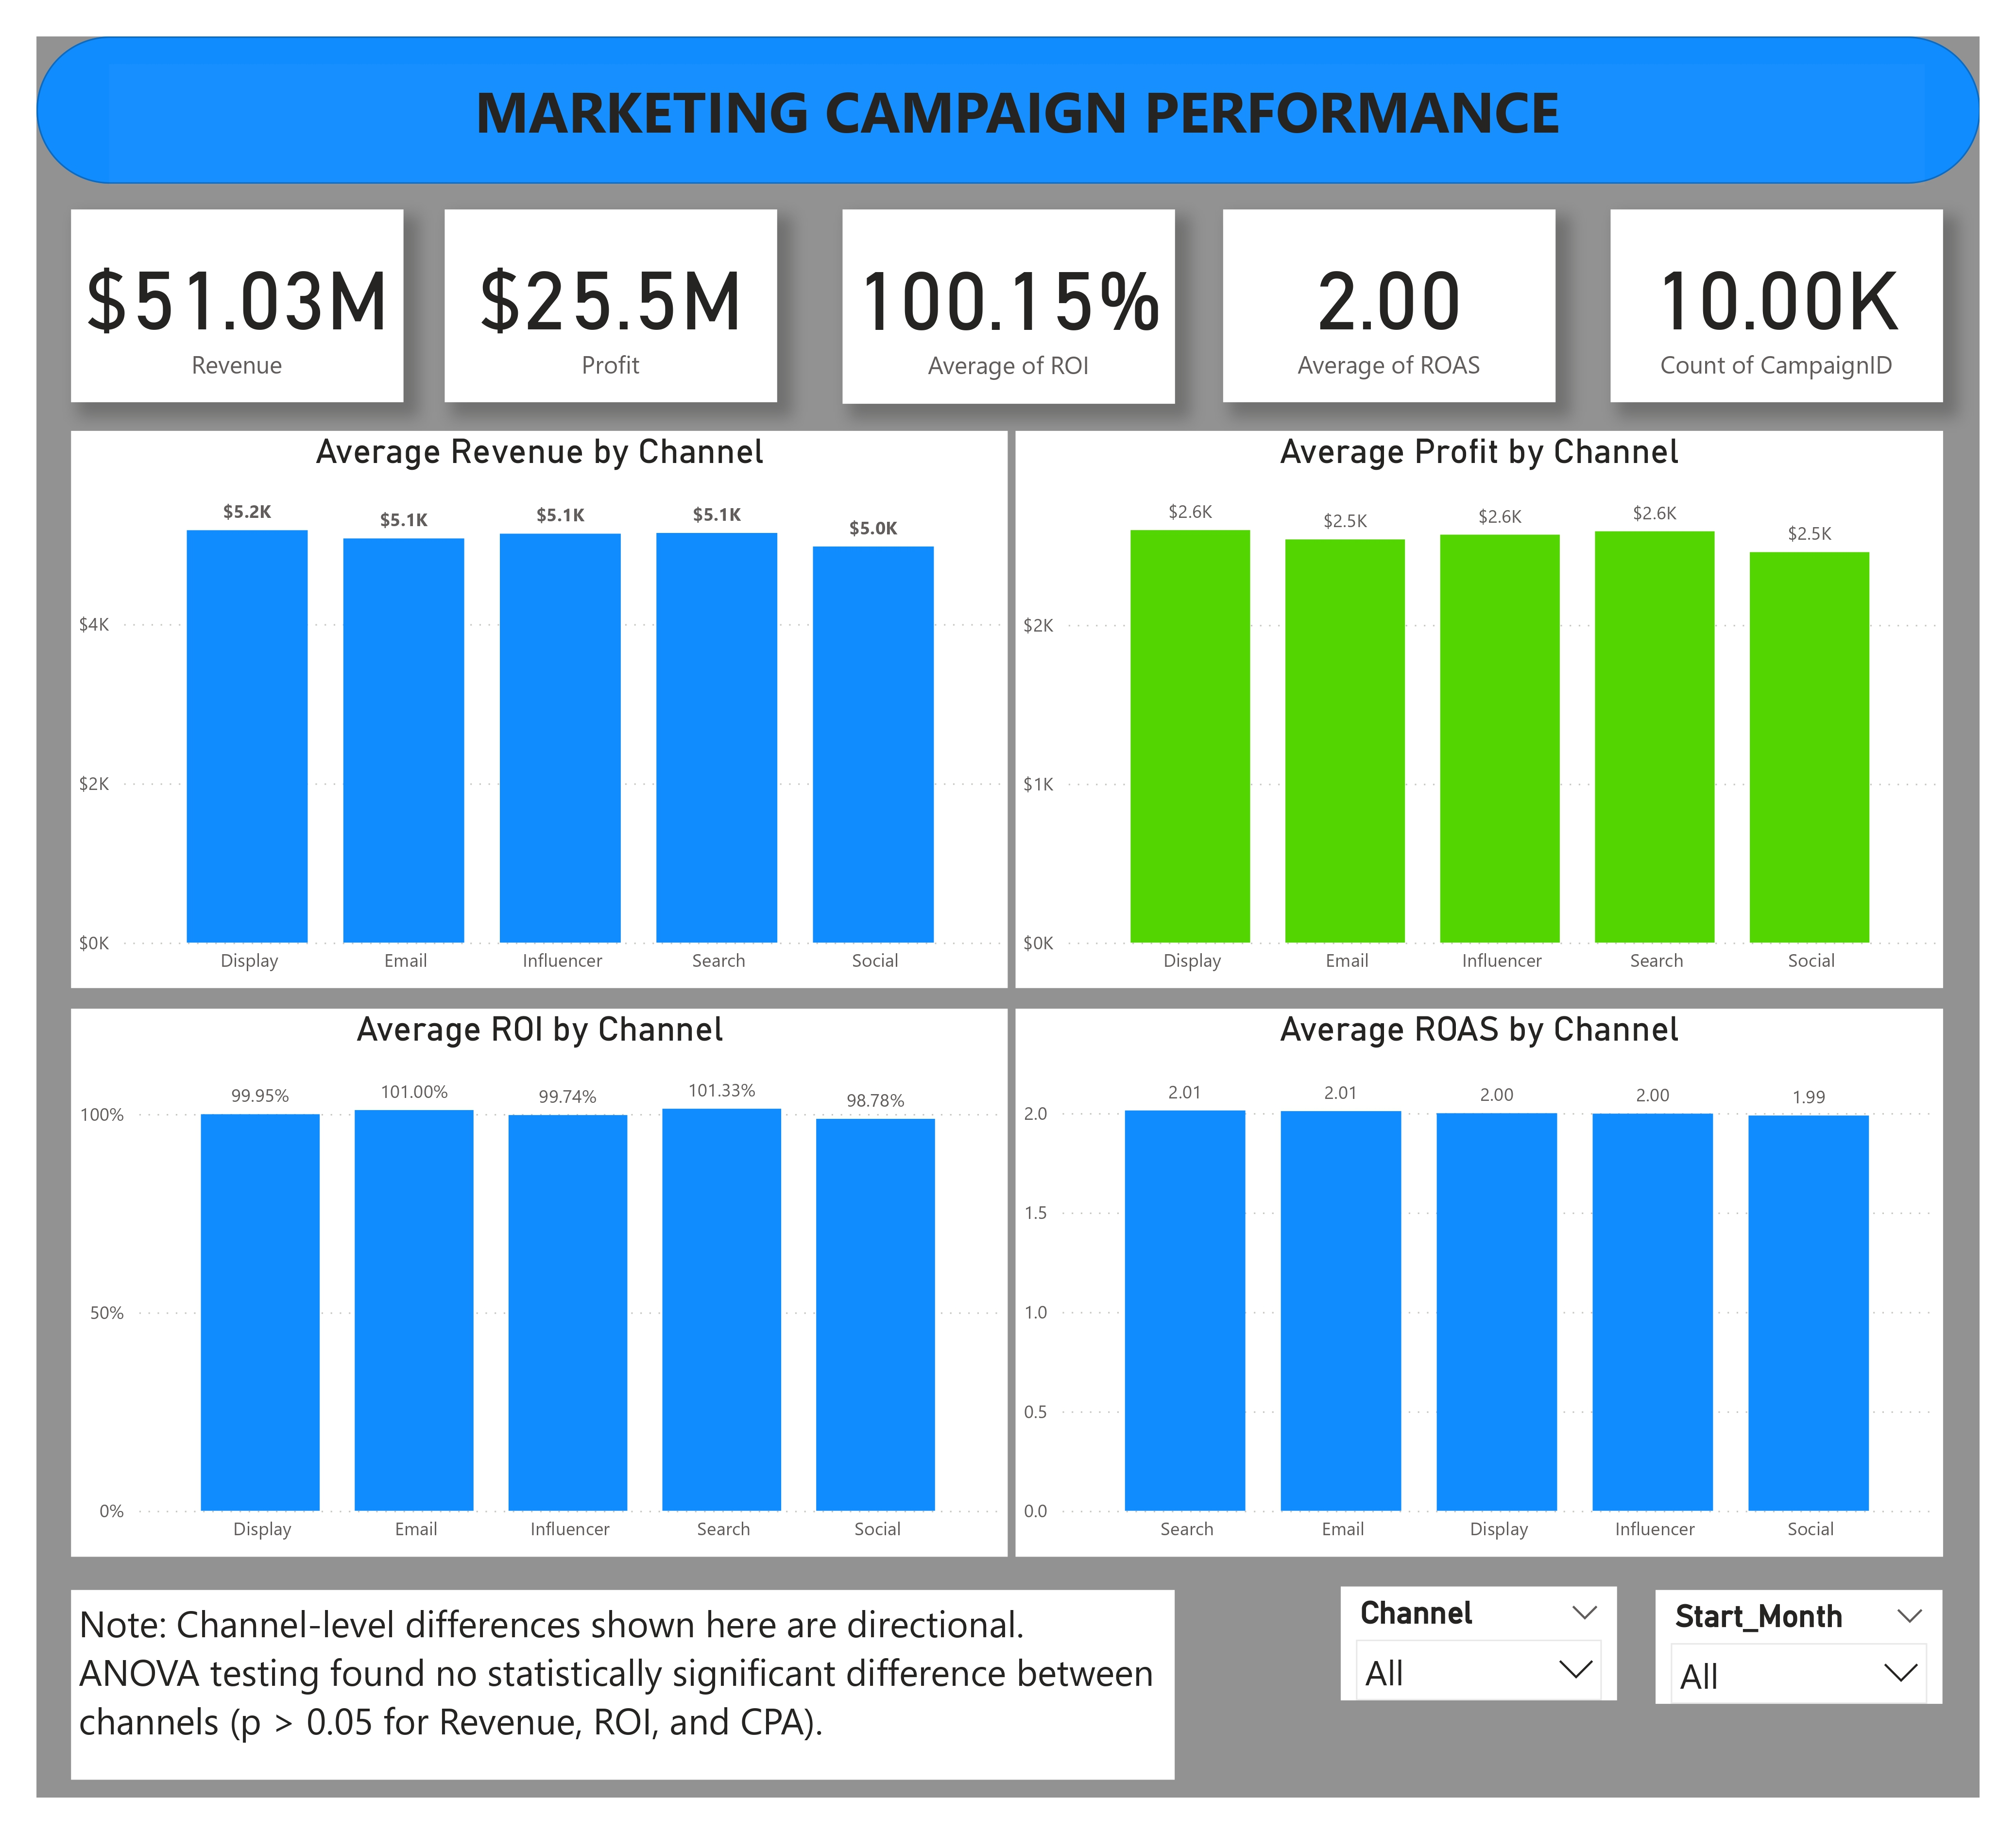

What the dashboard file says about the page in this screenshot:
{"tool":"powerbi","page":{"name":"Page 1","canvas":[1280,1160],"ordinal":0},"visuals":[{"type":"card","fields":{"Values":["Sum(Marketing Campaign Performance Clean.Revenue)"]},"box":[23.3,114.6,218.5,127.3],"z":0},{"type":"card","fields":{"Values":["Sum(Marketing Campaign Performance Clean.Profit)"]},"box":[269.5,114.6,218.5,127.3],"z":1000},{"type":"card","fields":{"Values":["Avg(Marketing Campaign Performance Clean.ROI)"]},"box":[531,113.9,218.8,127.6],"z":2000},{"type":"card","fields":{"Values":["Avg(Marketing Campaign Performance Clean.ROAS)"]},"box":[780.8,114.6,218.5,127.3],"z":3000},{"type":"clusteredColumnChart","title":"Average Revenue by Channel","fields":{"Category":["Marketing Campaign Performance Clean.Channel"],"Y":["Avg(Marketing Campaign Performance Clean.Revenue)"]},"box":[23.3,258.9,617.4,367.1],"z":4000},{"type":"card","fields":{"Values":["Count(Marketing Campaign Performance Clean.CampaignID)"]},"box":[1037.6,114.6,218.5,127.3],"z":5000},{"type":"clusteredColumnChart","title":"Average Profit by Channel","fields":{"Category":["Marketing Campaign Performance Clean.Channel"],"Y":["Avg(Marketing Campaign Performance Clean.Profit)"]},"box":[645,258.9,611.1,367.1],"z":6000},{"type":"clusteredColumnChart","title":"Average ROI by Channel","fields":{"Category":["Marketing Campaign Performance Clean.Channel"],"Y":["Avg(Marketing Campaign Performance Clean.ROI)"]},"box":[23.3,640.8,617.4,360.7],"z":7000},{"type":"shape","box":[0,0,1280.5,97],"z":8000},{"type":"textbox","box":[47.4,17.2,1196.4,79.8],"z":9000},{"type":"clusteredColumnChart","title":"Average ROAS by Channel","fields":{"Category":["Marketing Campaign Performance Clean.Channel"],"Y":["Avg(Marketing Campaign Performance Clean.ROAS)"]},"box":[645,640.8,611.1,360.7],"z":10000},{"type":"slicer","fields":{"Values":["Marketing Campaign Performance Clean.Channel"]},"box":[859.2,1021,182.3,75.2],"z":11000},{"type":"slicer","fields":{"Values":["Marketing Campaign Performance Clean.Start_Month"]},"box":[1066.6,1023.3,189.2,75.2],"z":12000},{"type":"textbox","box":[22.8,1023.3,727,125.3],"z":13000}]}

Visuals, with their boxes on the page's 1280x1160 design canvas (x1, y1, x2, y2). These are canvas units, not pixel positions in the 2016x1834 screenshot, which may show the page scaled, cropped or inside an application window:
card - Sum(Marketing Campaign Performance Clean.Revenue): x1=23 y1=115 x2=242 y2=242
card - Sum(Marketing Campaign Performance Clean.Profit): x1=270 y1=115 x2=488 y2=242
card - Avg(Marketing Campaign Performance Clean.ROI): x1=531 y1=114 x2=750 y2=242
card - Avg(Marketing Campaign Performance Clean.ROAS): x1=781 y1=115 x2=999 y2=242
"Average Revenue by Channel" clusteredColumnChart: x1=23 y1=259 x2=641 y2=626
card - Count(Marketing Campaign Performance Clean.CampaignID): x1=1038 y1=115 x2=1256 y2=242
"Average Profit by Channel" clusteredColumnChart: x1=645 y1=259 x2=1256 y2=626
"Average ROI by Channel" clusteredColumnChart: x1=23 y1=641 x2=641 y2=1002
shape: x1=0 y1=0 x2=1280 y2=97
textbox: x1=47 y1=17 x2=1244 y2=97
"Average ROAS by Channel" clusteredColumnChart: x1=645 y1=641 x2=1256 y2=1002
slicer - Marketing Campaign Performance Clean.Channel: x1=859 y1=1021 x2=1042 y2=1096
slicer - Marketing Campaign Performance Clean.Start_Month: x1=1067 y1=1023 x2=1256 y2=1098
textbox: x1=23 y1=1023 x2=750 y2=1149
